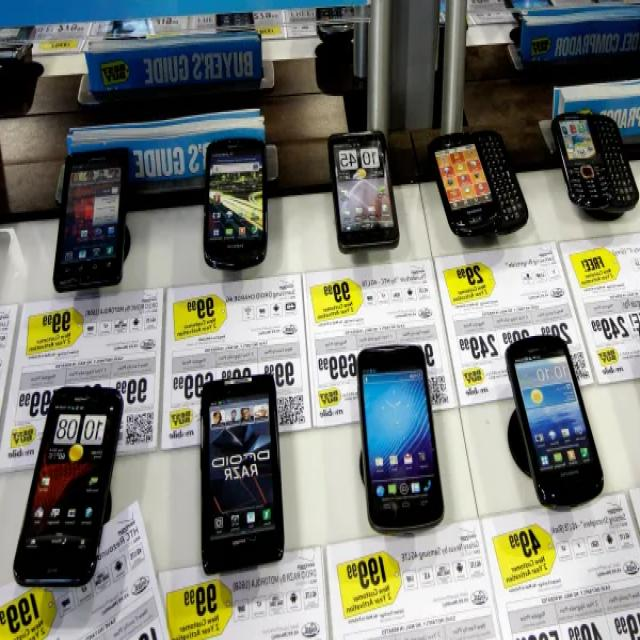mobile: (10, 385, 138, 579), (344, 340, 446, 529), (38, 152, 141, 328), (204, 379, 292, 561), (516, 341, 590, 510), (191, 138, 276, 261), (551, 106, 635, 224), (332, 131, 393, 271), (442, 129, 520, 237)
